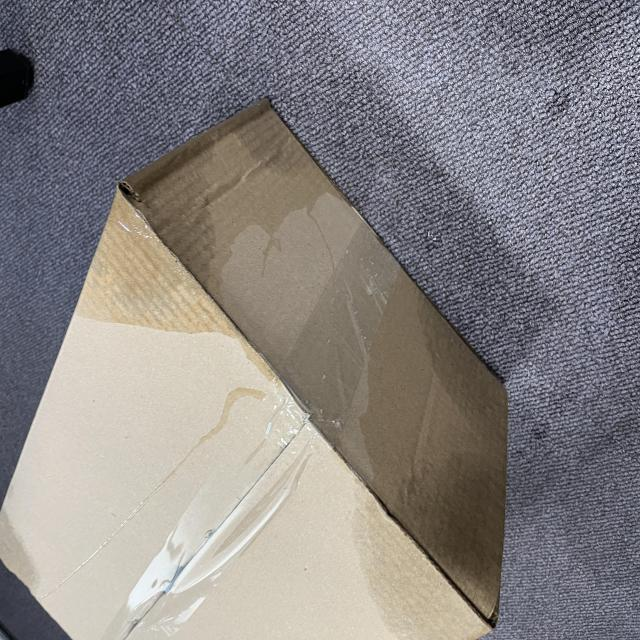wet: (235, 188, 480, 375), (91, 431, 252, 640)
